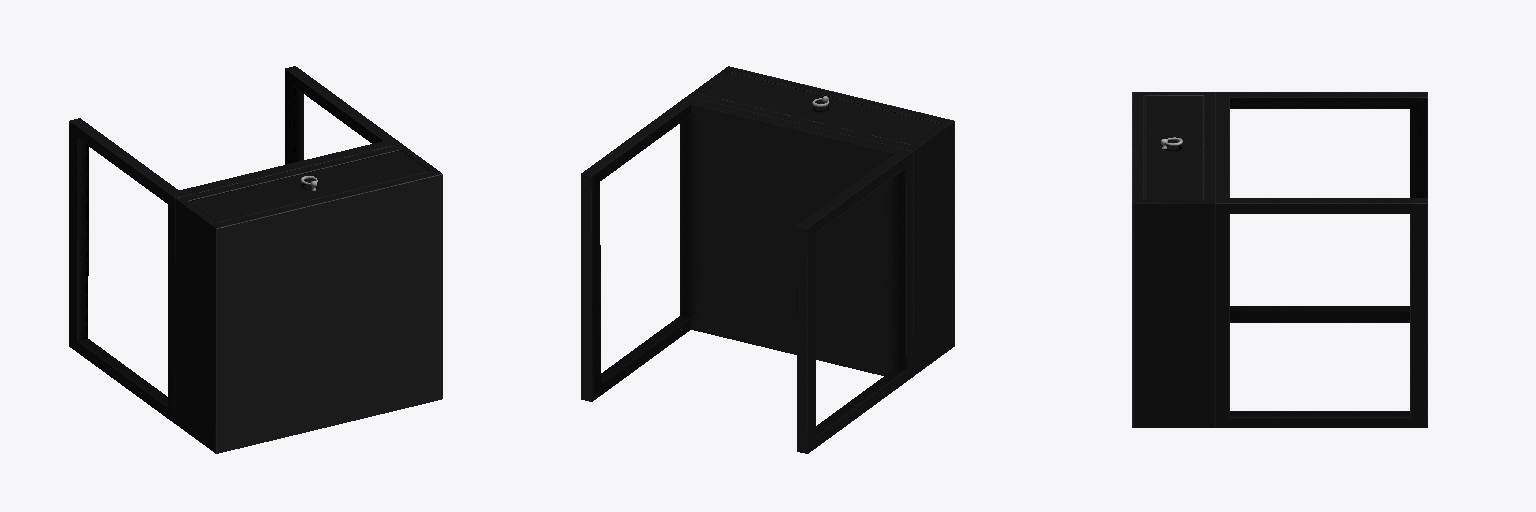
The picture shows the model from 3 angles: view 1: azimuth 30°, elevation 25°; view 2: azimuth 150°, elevation 25°; view 3: azimuth 270°, elevation 25°; orthographic projection.
Bounding box in the file's own units: 0.4431 × 0.4368 × 0.499.
1 materials, 1 textured.